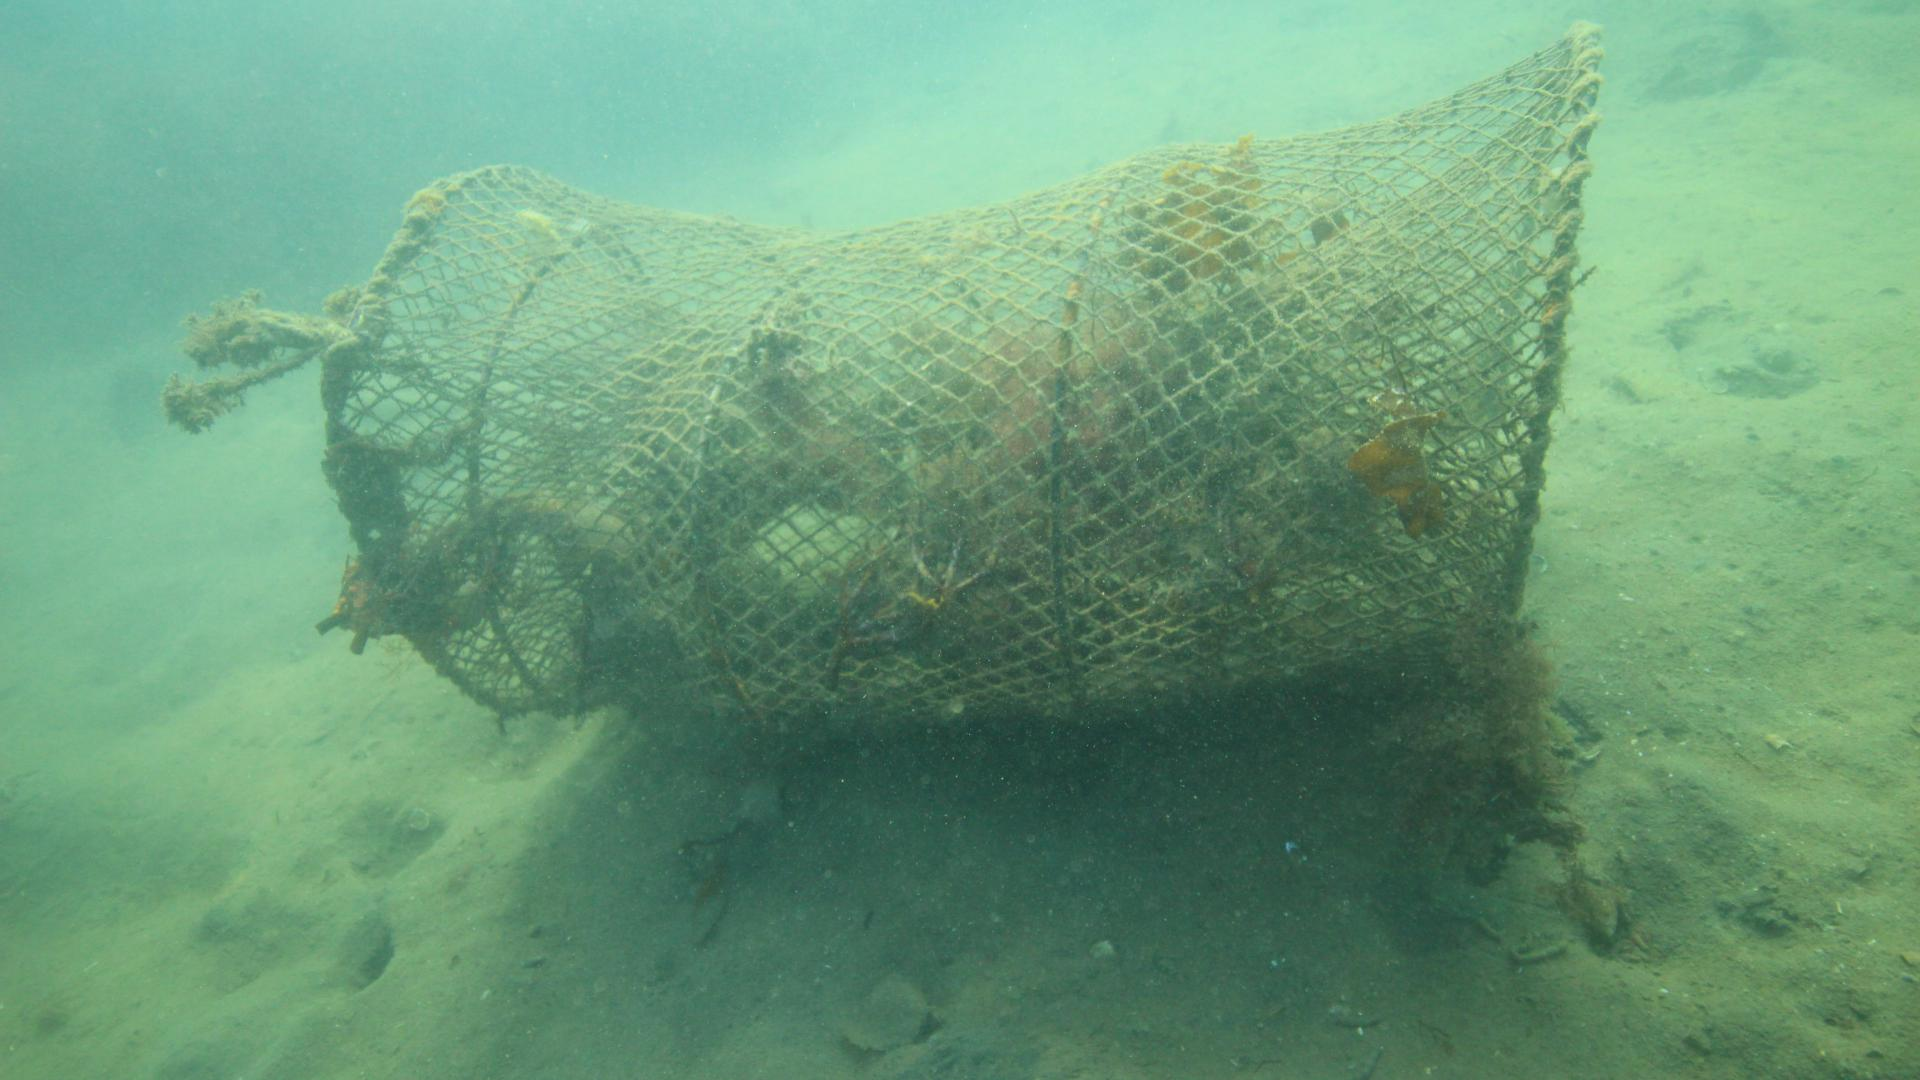spring fish trap: (323, 26, 1597, 766)
